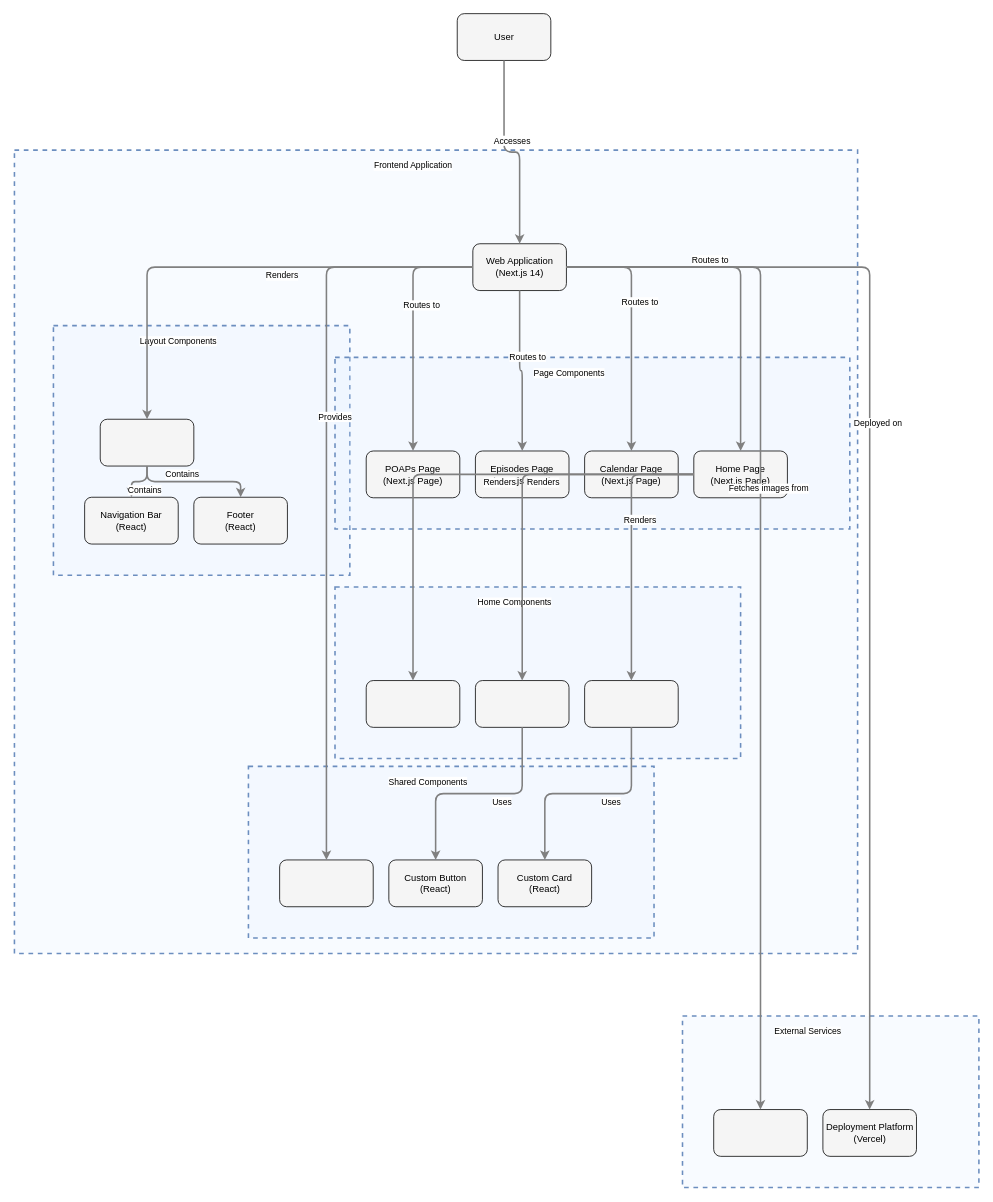
The diagram is 993 pixels wide and 1202 high, and some of its shapes have lost their labels. The shapes that lost their labels are listed below. From the top down, each one's box as (x1, y1, x2, y2) in pixels, then its label:
(99, 418, 194, 466): Root Layout (Next.js Layout)
(365, 680, 460, 727): Statistics (React)
(475, 680, 569, 727): Hero Section (React)
(584, 680, 678, 727): Latest Episodes (React)
(279, 859, 373, 907): Theme Context (React Context)
(713, 1109, 807, 1156): Image CDN (daoariwas.xyz)
